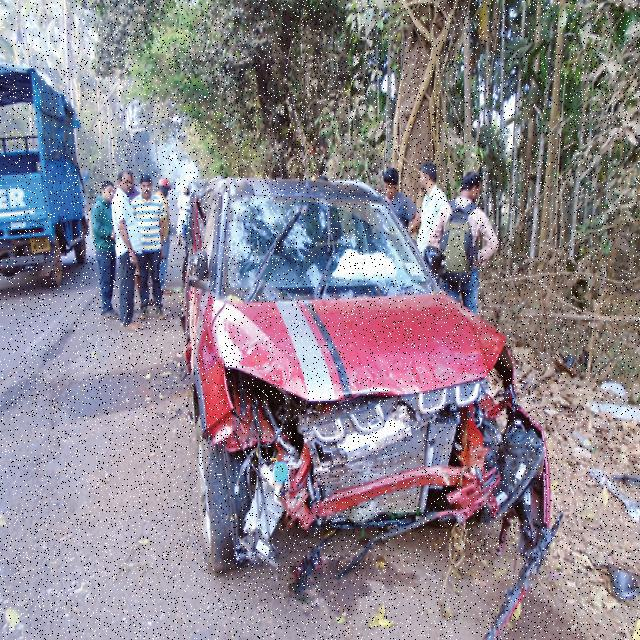front-bumper-dent: (203, 387, 544, 544)
